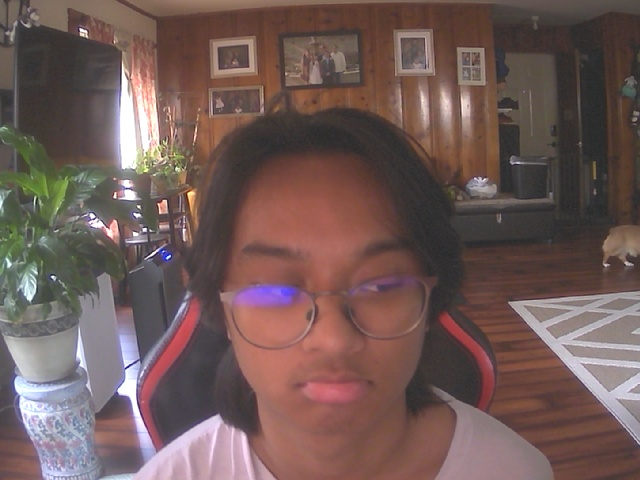sad: (212, 130, 441, 437)
